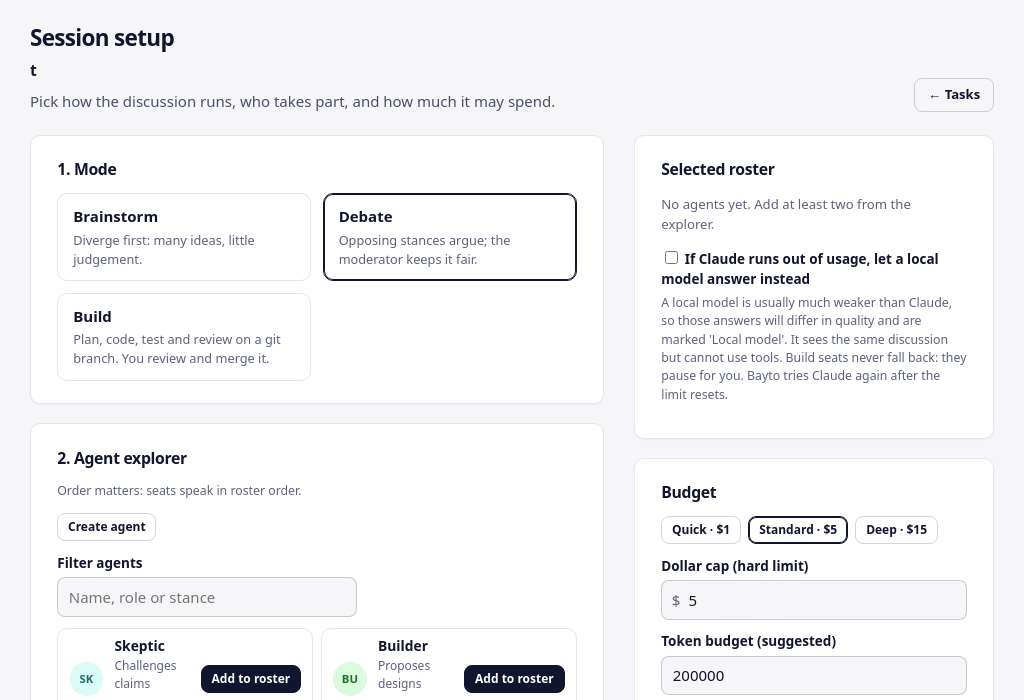
Scenario: SessionSetup in Build mode › goes back to discussion agents when you leave Build
Expected: the heading "Session setup" is shown, [30,22,174,53]
Click the radio button labelled "Build" at coordinates (184, 337), box [57,292,311,381]
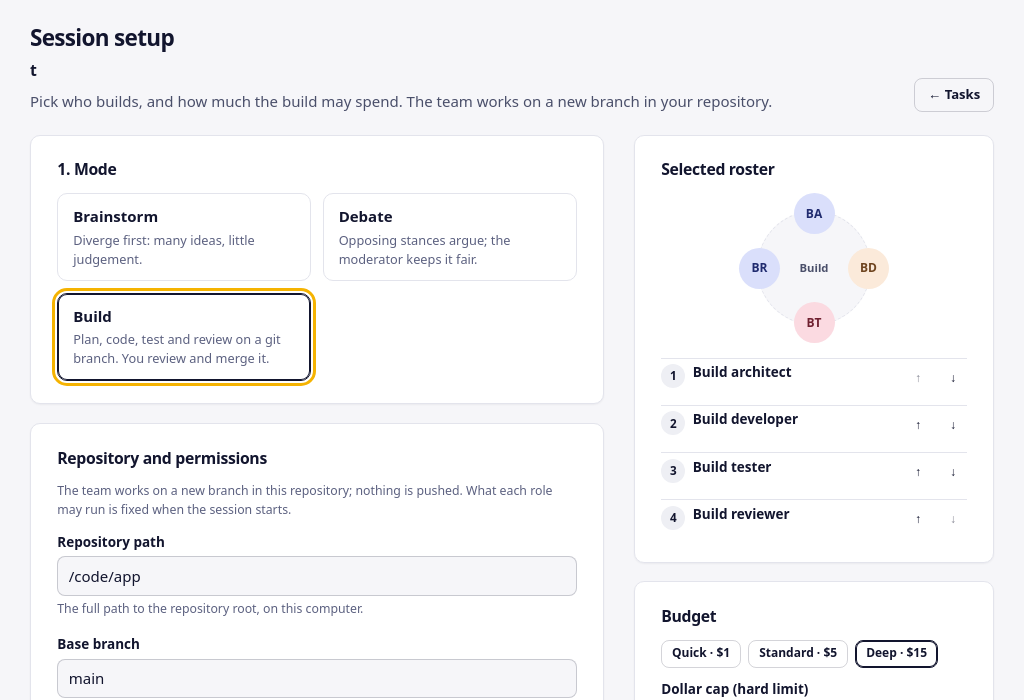
Click the radio button labelled "Debate Opposing stances argue; the moderator keeps it fair." at coordinates (450, 237), box [323,193,577,281]
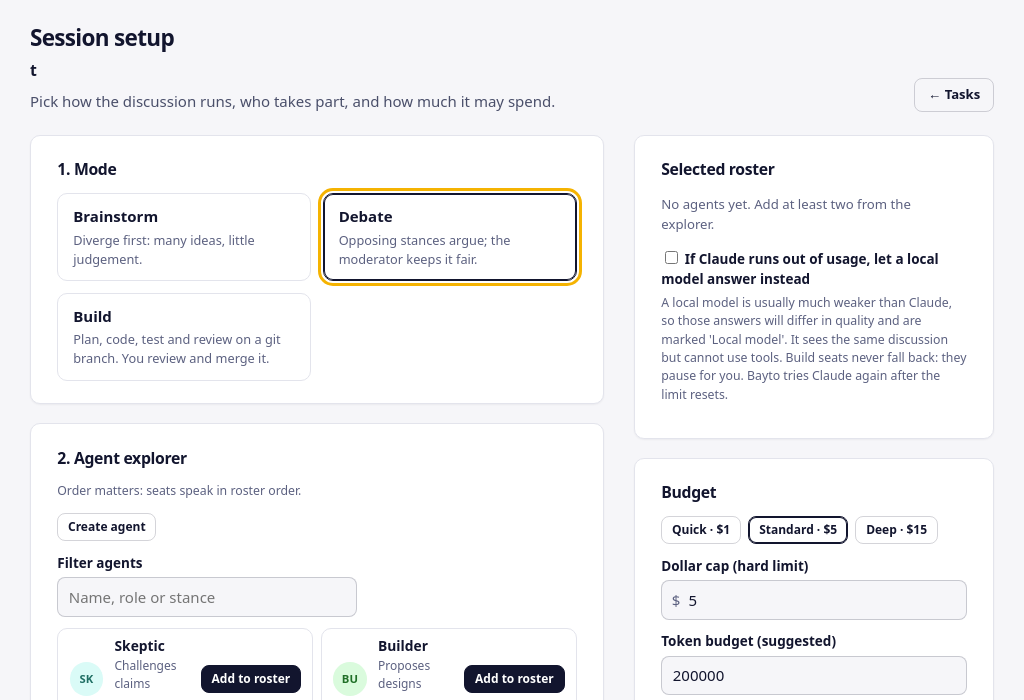
Expected: the text "Skeptic" is shown, [114,636,165,655]
Expected: the text "Build architect" is gone
Expected: the number field labelled "Dollar cap (hard limit)" holds "5", [661,580,967,620]
